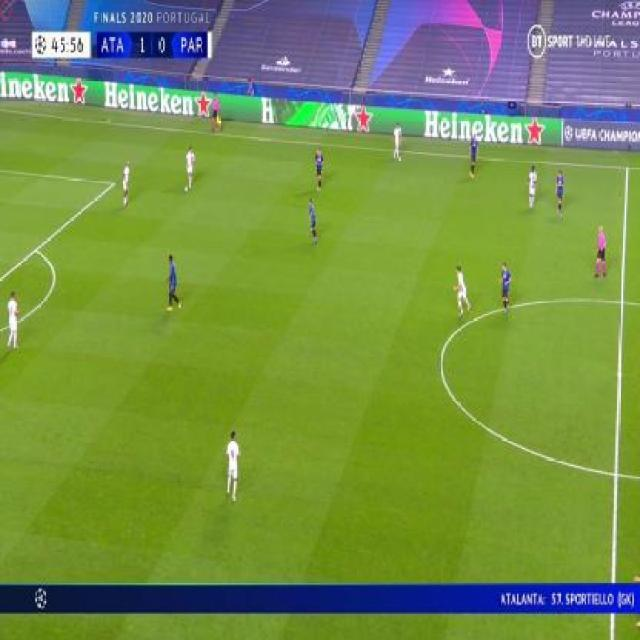ball: (183, 184, 189, 195)
player: (224, 425, 241, 502), (163, 253, 182, 312), (5, 286, 21, 354), (452, 262, 471, 313), (497, 257, 513, 314), (594, 222, 608, 279), (119, 156, 132, 207), (183, 142, 196, 191), (554, 167, 567, 216), (306, 196, 319, 244), (525, 162, 538, 208), (467, 132, 480, 178), (313, 145, 326, 188), (209, 93, 222, 133), (392, 117, 403, 160)
